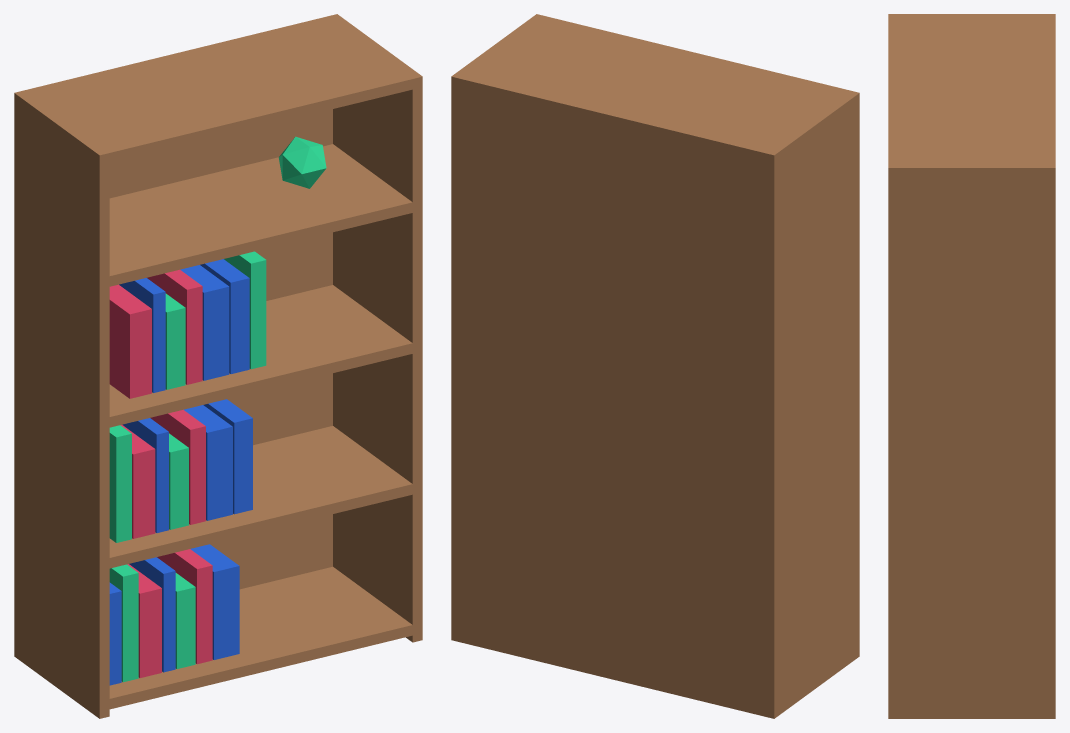
Rendered from bookshelf.8b1b6827493f.glb.
3 renders of one model, left to right at view 1: azimuth 30°, elevation 25°; view 2: azimuth 150°, elevation 25°; view 3: azimuth 270°, elevation 25°, orthographic. The views are drawn at different scales.
Parts seen in each view (by area): view 1: bookshelf; view 2: bookshelf; view 3: bookshelf.
Boxes of the visible parts, box(x1,y1,x2,y2) form: bookshelf: box(14, 14, 422, 718); bookshelf: box(451, 14, 859, 718); bookshelf: box(888, 14, 1055, 718).
Size of the model in its own units: 0.96 by 1.6 by 0.44.
